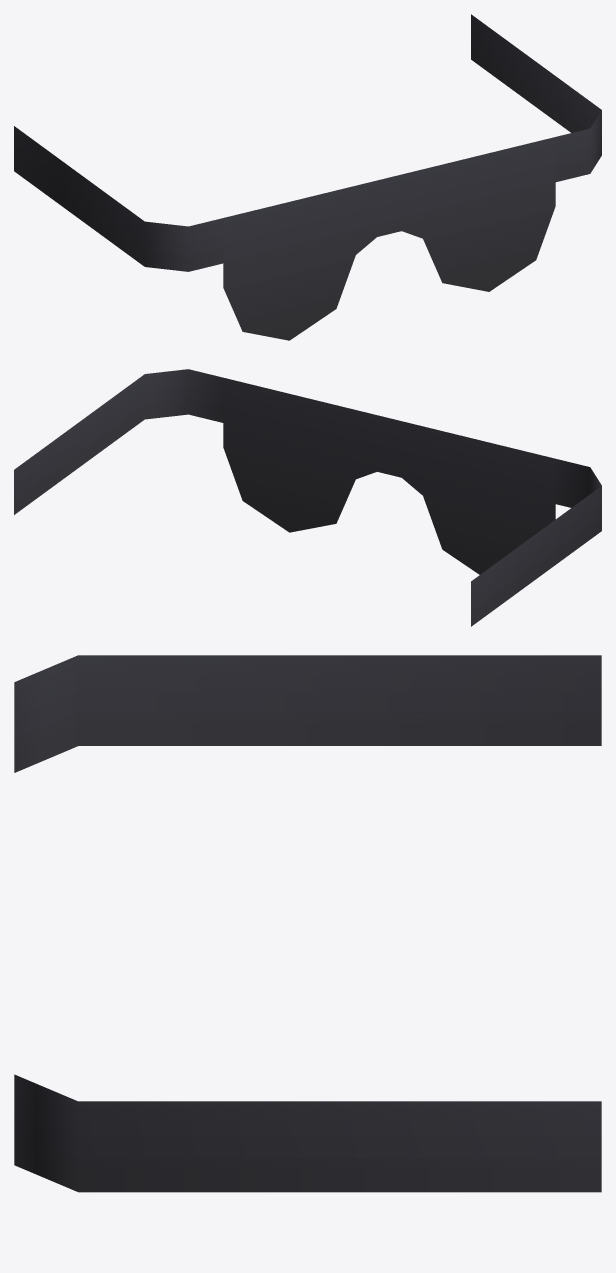
File: aid-sunglasses.fbx
3 renders of one model, top to bottom at view 1: azimuth 30°, elevation 25°; view 2: azimuth 150°, elevation 25°; view 3: azimuth 270°, elevation 25°, orthographic. The views are drawn at different scales.
Visible parts, largest first — view 1: aid-sunglasses; view 2: aid-sunglasses; view 3: aid-sunglasses.
Part boxes in pixels (x1,y1,x2,y2): aid-sunglasses: (14, 14, 601, 340); aid-sunglasses: (14, 369, 601, 626); aid-sunglasses: (14, 655, 601, 1192).
Size of the model in its own units: 33 by 9.58 by 18.36.
